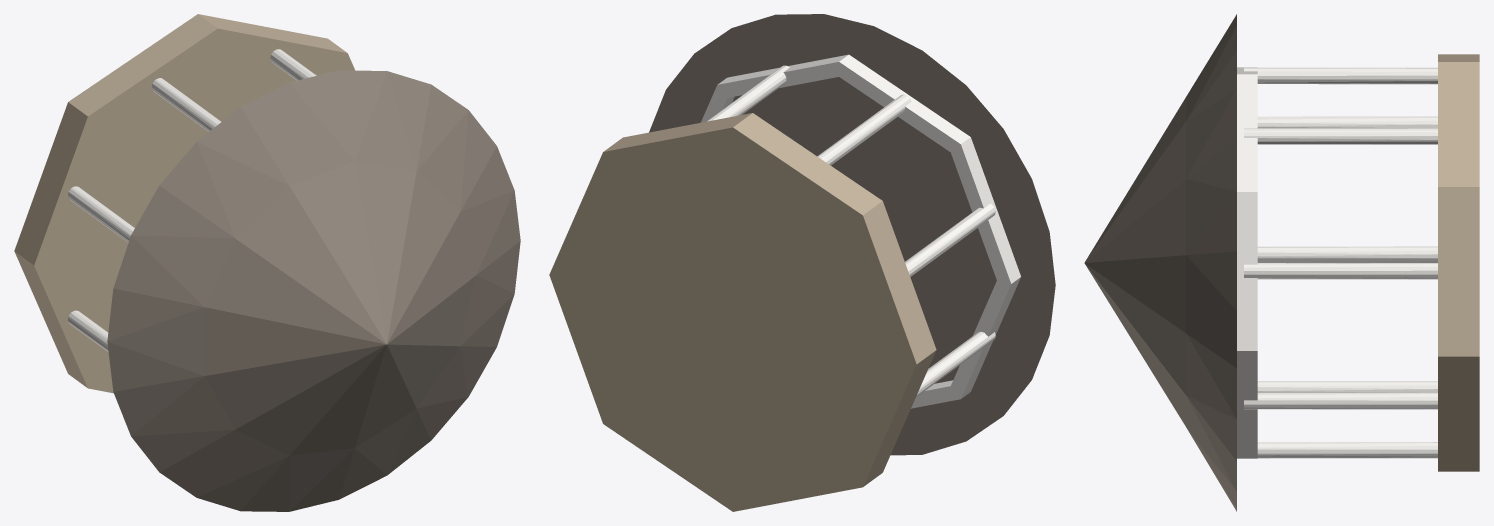
File: r-117-start-gazebo.glb
The picture shows the model from 3 angles, left to right: view 1: azimuth 30°, elevation 25°; view 2: azimuth 150°, elevation 25°; view 3: azimuth 270°, elevation 25°; orthographic projection. The views are drawn at different scales.
Parts seen in each view (by area): view 1: roof, platform, posts-rail; view 2: platform, roof, posts-rail; view 3: roof, posts-rail, platform.
Part boxes in pixels (x1=…): roof: x1=107, y1=70, x2=520, y2=511; platform: x1=14, y1=14, x2=355, y2=393; posts-rail: x1=68, y1=49, x2=316, y2=351; platform: x1=549, y1=113, x2=936, y2=511; roof: x1=649, y1=14, x2=1055, y2=455; posts-rail: x1=701, y1=54, x2=1020, y2=408; roof: x1=1084, y1=14, x2=1236, y2=511; posts-rail: x1=1237, y1=67, x2=1437, y2=458; platform: x1=1438, y1=54, x2=1479, y2=471.
Bounding box in the file's own units: 7200 × 7147 × 5700.
